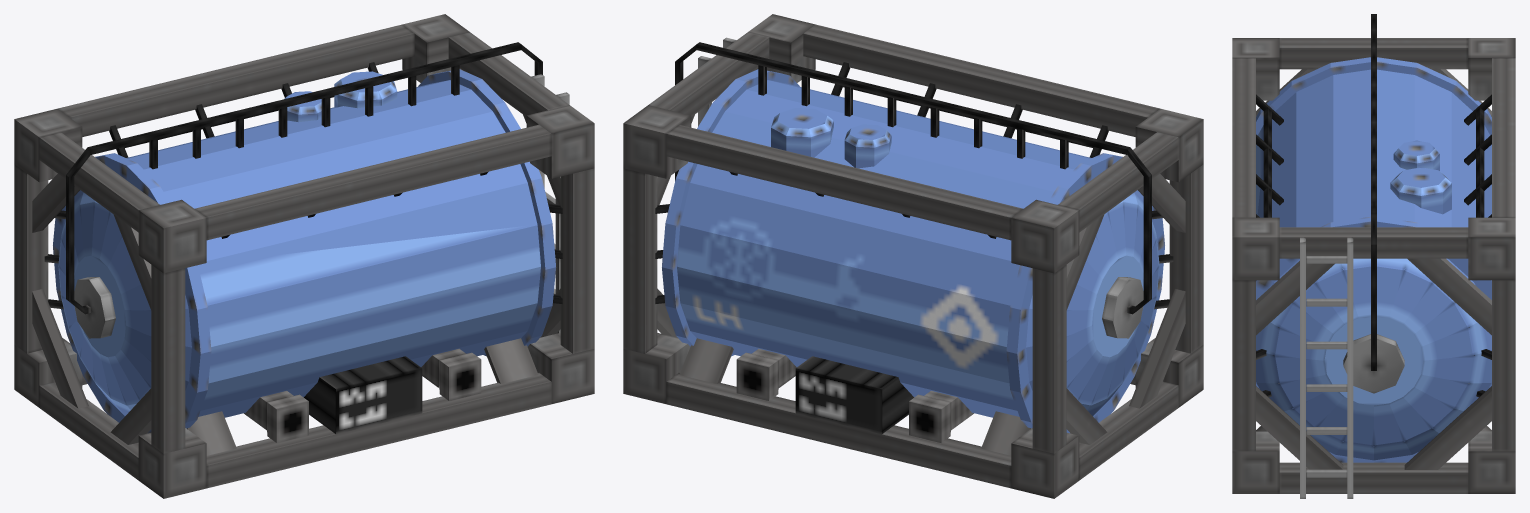
Rendered from tank_liquid_hydrogen.obj.
3 views of the same model, side by side, from view 1: azimuth 30°, elevation 25°; view 2: azimuth 150°, elevation 25°; view 3: azimuth 270°, elevation 25° (orthographic). The views are drawn at different scales.
Parts seen in each view (by area): view 1: Frame; view 2: Frame; view 3: Frame.
Part boxes in pixels (box(x1,y1,x2,y2)): Frame: box(14, 14, 594, 498); Frame: box(623, 14, 1203, 498); Frame: box(1232, 14, 1515, 498).
Bounding box in the file's own units: 5.5 × 3.28 × 3.
